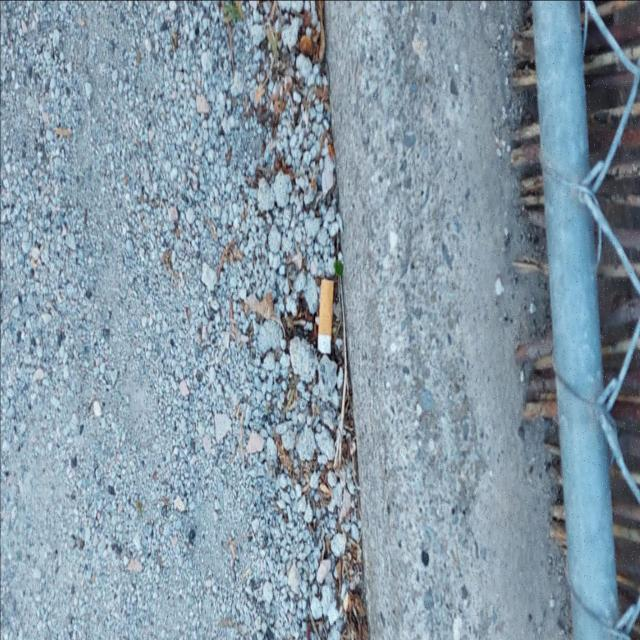other waste: (316, 276, 334, 354)
